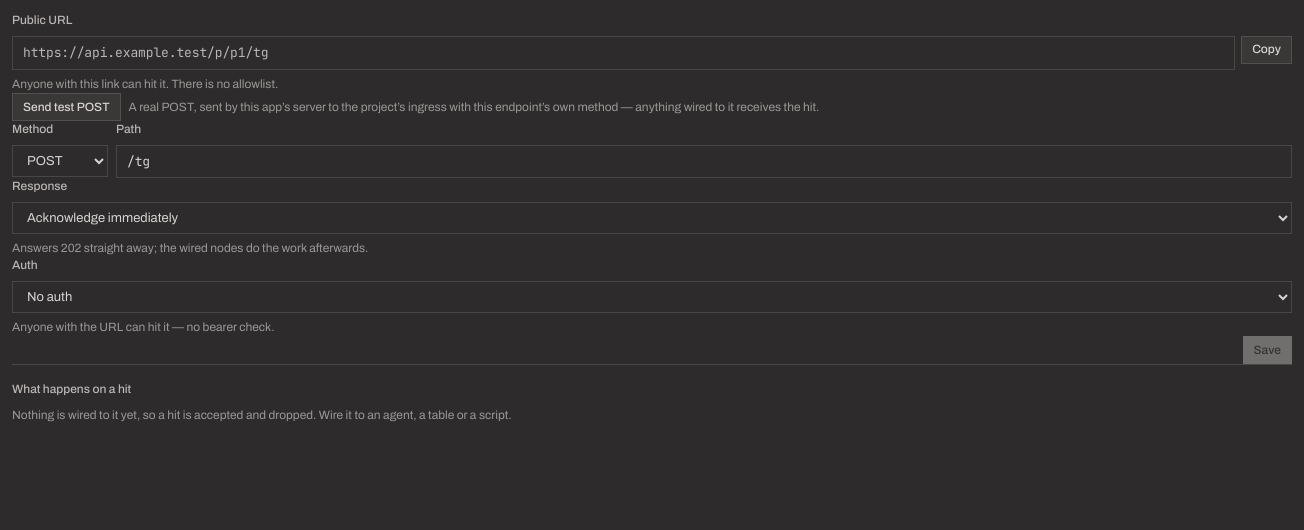
Test: testing the public URL › uses the engine's own words when the API sends ingress_unavailable
Click the button with test id "btn-endpoint-test" at [66, 107], box [12,93,120,121]
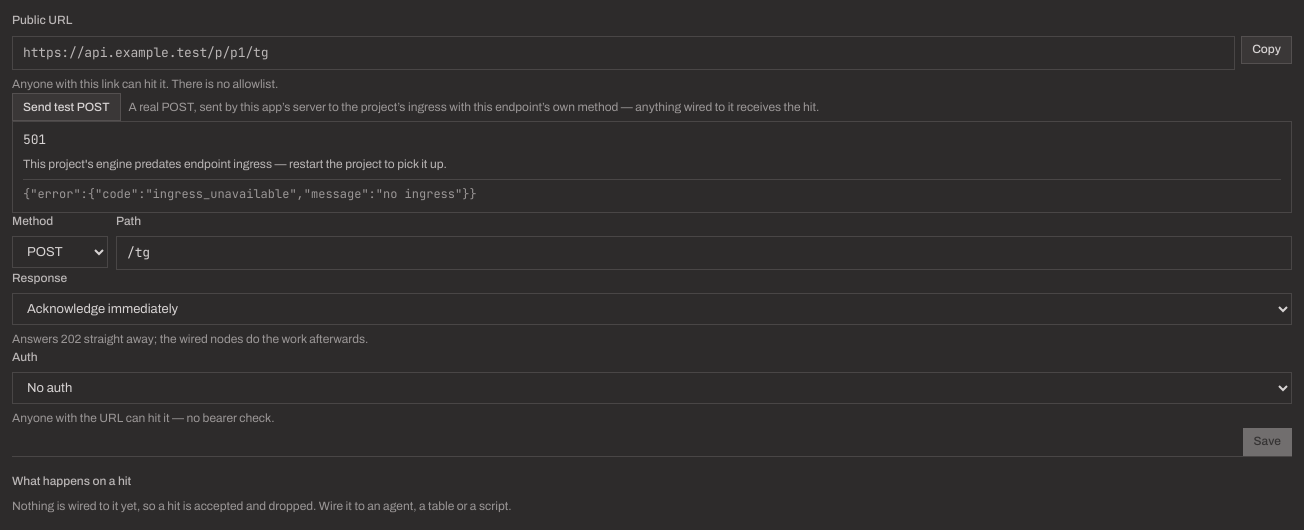
Now the text with test id "endpoint-probe-verdict" shows "predates endpoint ingress — restart the project", box [23,156,447,170]
